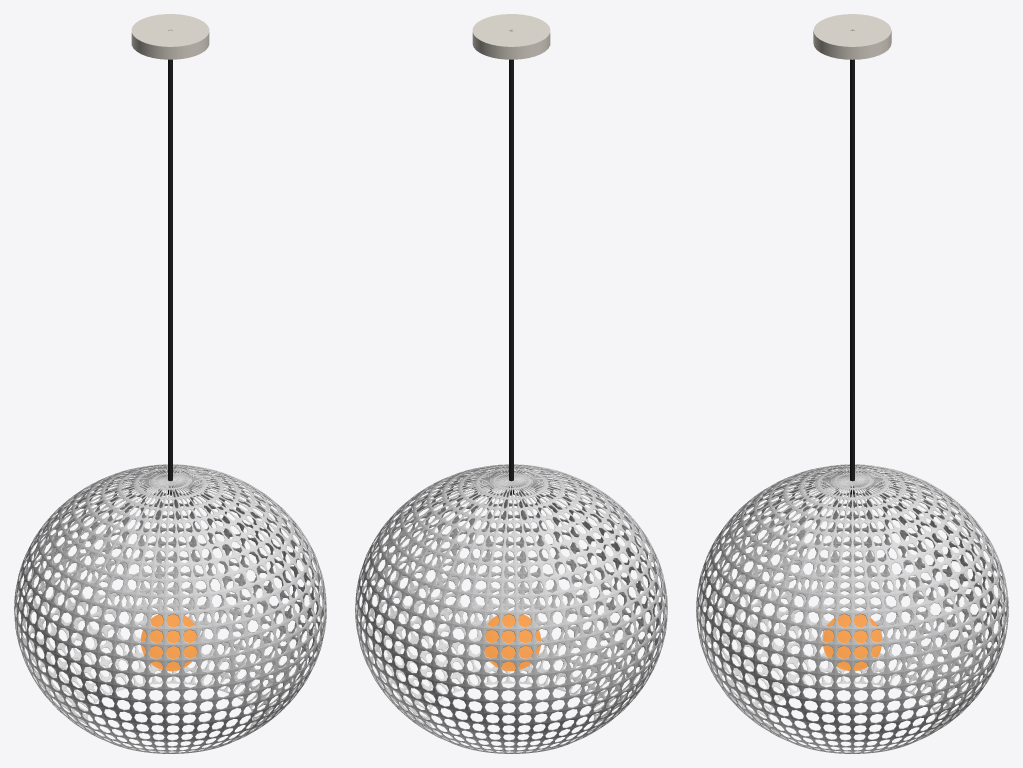
The model's file is pendant__2.glb.
3 views of the same model, side by side, from view 1: azimuth 30°, elevation 25°; view 2: azimuth 150°, elevation 25°; view 3: azimuth 270°, elevation 25° (orthographic).
Visible parts, largest first — view 1: rattan globe, canopy, cable, bulb; view 2: rattan globe, canopy, cable, bulb; view 3: rattan globe, canopy, cable, bulb.
Boxes of the visible parts, left/top/right/bottom form: rattan globe: left=14, top=464, right=326, bottom=753; canopy: left=131, top=14, right=209, bottom=59; cable: left=168, top=30, right=172, bottom=494; bulb: left=140, top=614, right=197, bottom=671; rattan globe: left=355, top=464, right=667, bottom=753; canopy: left=472, top=14, right=550, bottom=59; cable: left=509, top=30, right=513, bottom=494; bulb: left=484, top=614, right=541, bottom=671; rattan globe: left=696, top=464, right=1008, bottom=753; canopy: left=813, top=14, right=891, bottom=59; cable: left=850, top=29, right=854, bottom=494; bulb: left=822, top=614, right=882, bottom=670.
Bounding box in the file's own units: 0.441 × 1.07 × 0.441.
